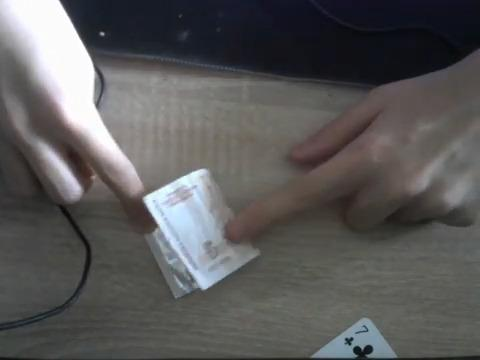5leva: (140, 169, 261, 300)
